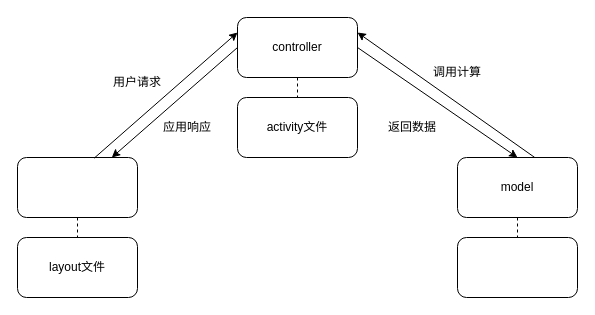
Some shapes in this 595 by 315 pixel diagram are drawn without their labels. Here are the shapes that lost their labels. From the top down, the box of each, then its label:
(16, 156, 138, 218): view
(456, 236, 578, 298): bean实体类
